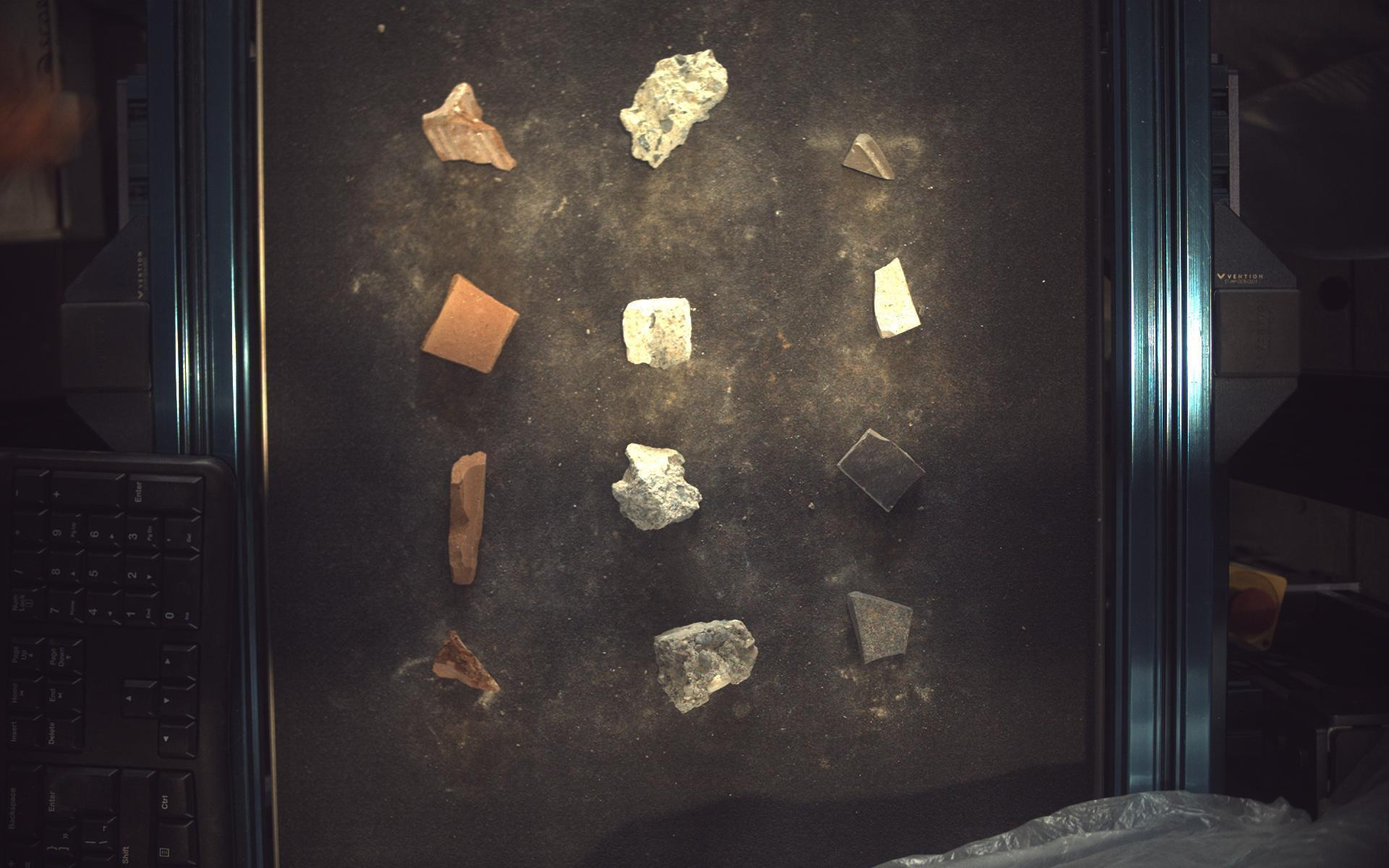brick: (422, 273, 519, 373), (423, 81, 517, 170), (448, 451, 487, 586), (433, 632, 501, 694)
concrete: (621, 48, 729, 167), (655, 621, 759, 714), (613, 443, 703, 531), (623, 297, 692, 368)
tile: (839, 428, 927, 512), (849, 592, 914, 665), (876, 257, 922, 338), (845, 133, 896, 179)
